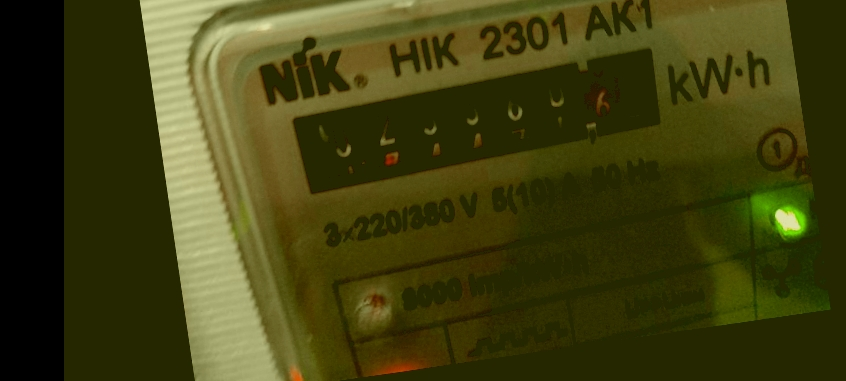0: (325, 117, 356, 162), (541, 71, 569, 111)
2: (368, 104, 400, 148)
3: (414, 96, 441, 139), (456, 88, 483, 129)
6: (497, 82, 529, 126), (590, 83, 616, 122)
screen: (266, 32, 680, 206)
